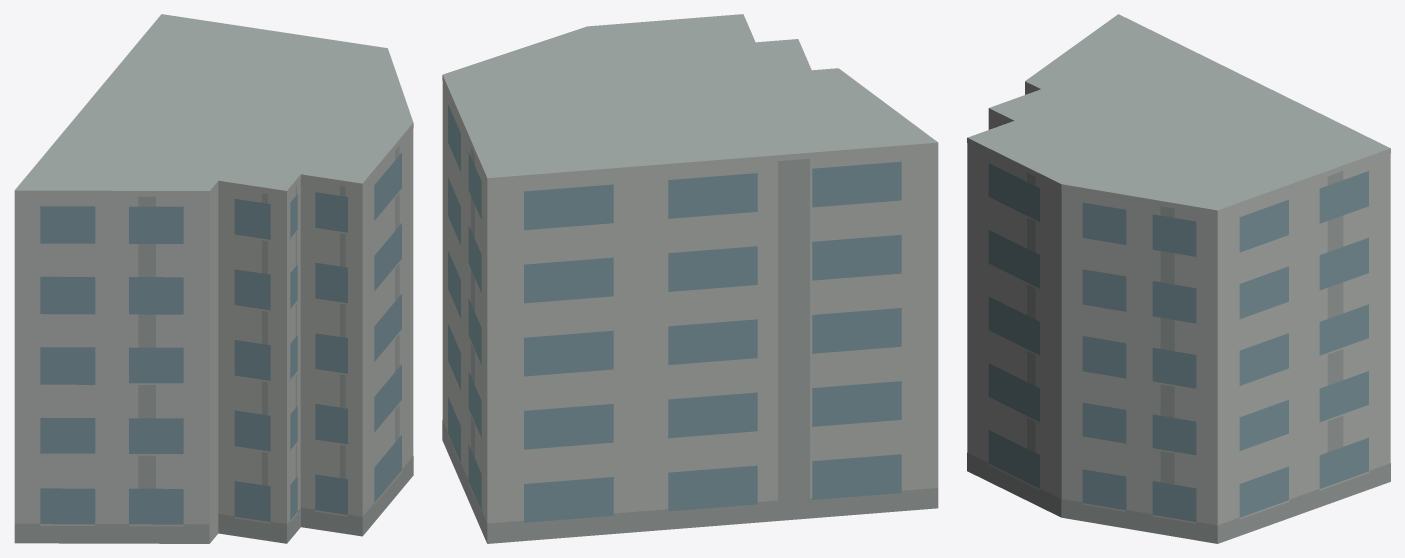
File: survey-upis-32619434.glb
The picture shows the model from 3 angles, left to right: view 1: azimuth 30°, elevation 25°; view 2: azimuth 150°, elevation 25°; view 3: azimuth 270°, elevation 25°; orthographic projection. The views are drawn at different scales.
Parts seen in each view (by area): view 1: survey-upis-32619434.tmp; view 2: survey-upis-32619434.tmp; view 3: survey-upis-32619434.tmp.
Boxes of the visible parts, bbox=[...] form: survey-upis-32619434.tmp: bbox=[14, 14, 413, 543]; survey-upis-32619434.tmp: bbox=[442, 14, 938, 543]; survey-upis-32619434.tmp: bbox=[967, 14, 1390, 543].
Size of the model in its own units: 18.77 by 14.85 by 17.1.
